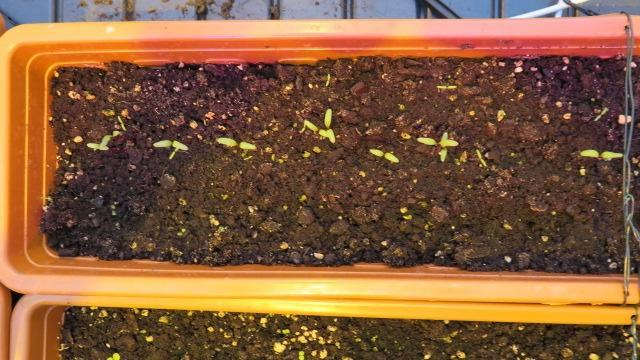crop: (213, 136, 259, 150), (575, 146, 624, 159), (365, 146, 400, 164)
weed: (589, 105, 610, 121), (319, 71, 331, 86)
